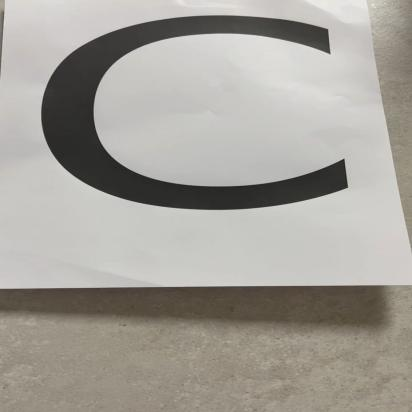seat: (0, 1, 406, 283)
